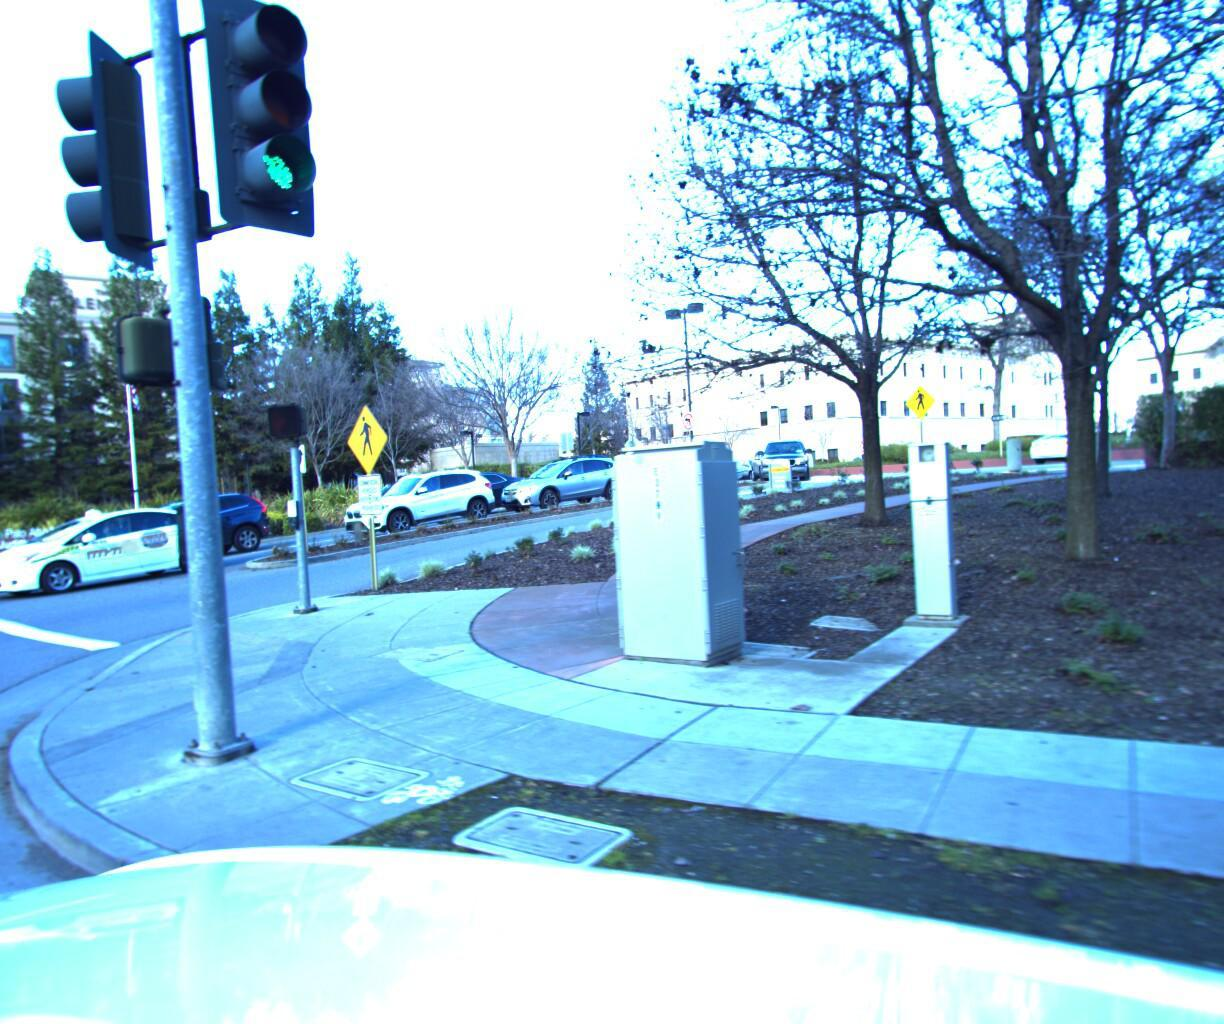car: (67, 484, 284, 573), (325, 460, 509, 536), (484, 447, 631, 511), (385, 465, 545, 521), (625, 445, 748, 492), (1021, 423, 1116, 466), (753, 432, 811, 478)
